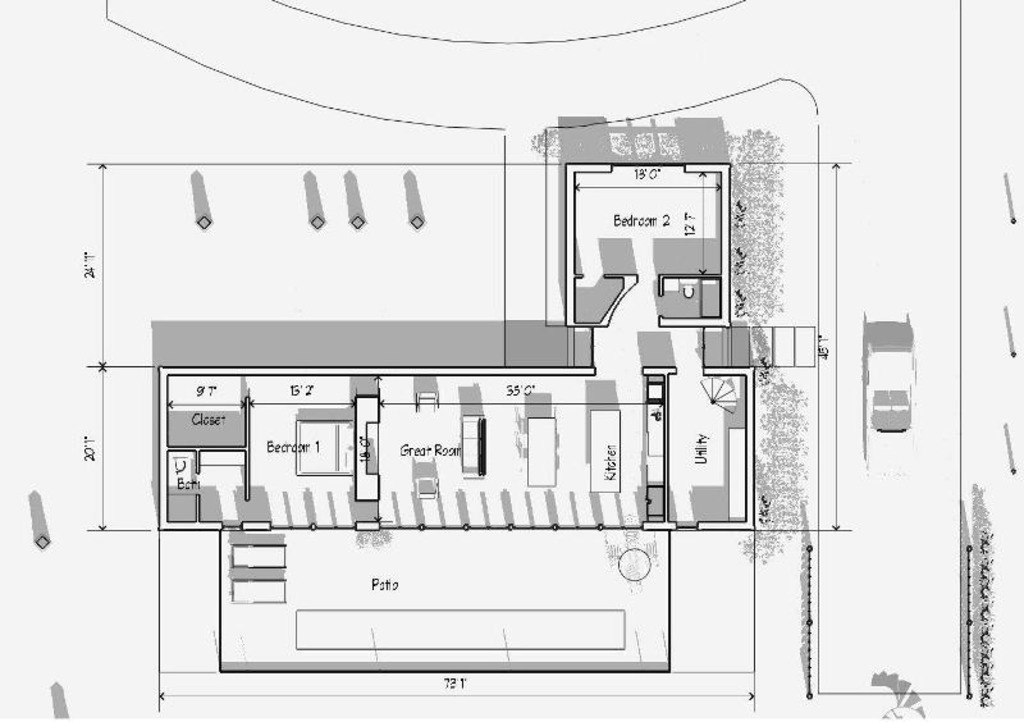bedroom has a bed, bathroom and walk in closet: (157, 374, 388, 536)
bedroom has a private bathroom: (566, 159, 728, 326)
great room has sofa, dining table and kitchen bar with other utilities: (389, 373, 749, 524)
